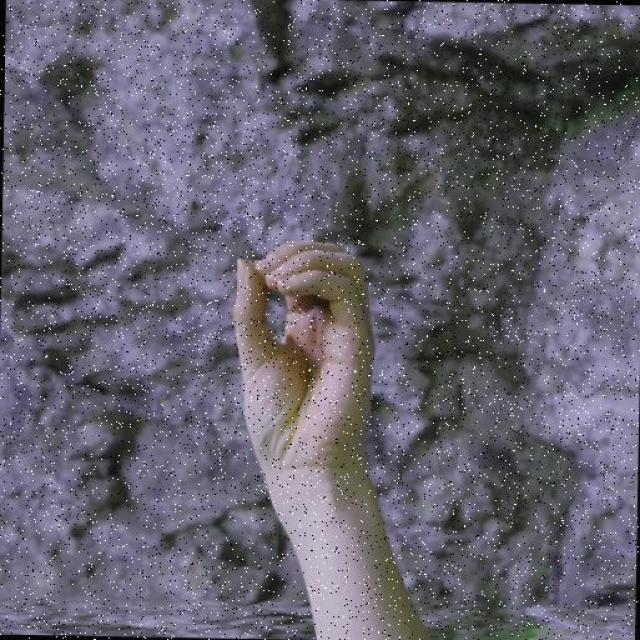O: (224, 232, 382, 478)
